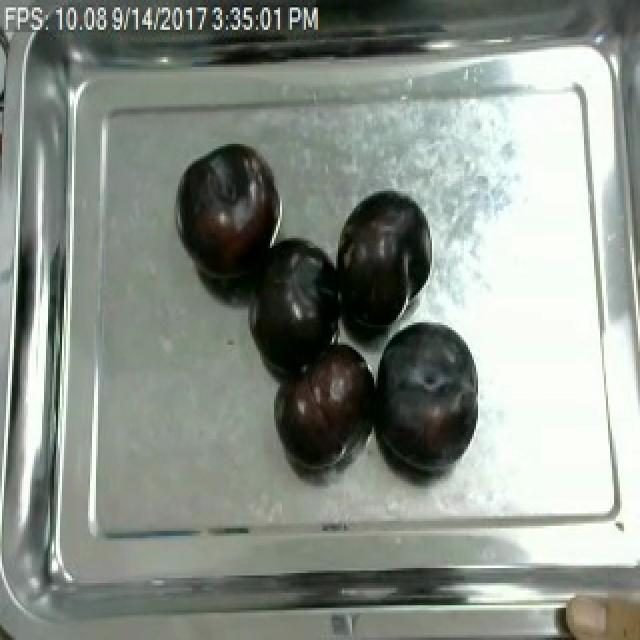Fruit: (364, 313, 490, 476), (332, 183, 438, 340), (240, 233, 346, 382), (174, 141, 282, 283), (270, 335, 382, 471), (556, 573, 640, 640)
